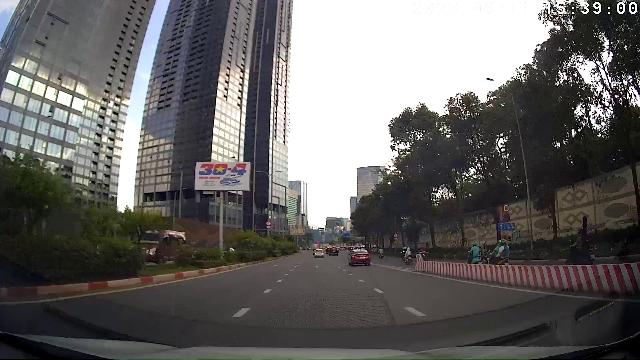127-toc-do-toi-da-60: (502, 204, 510, 212)
